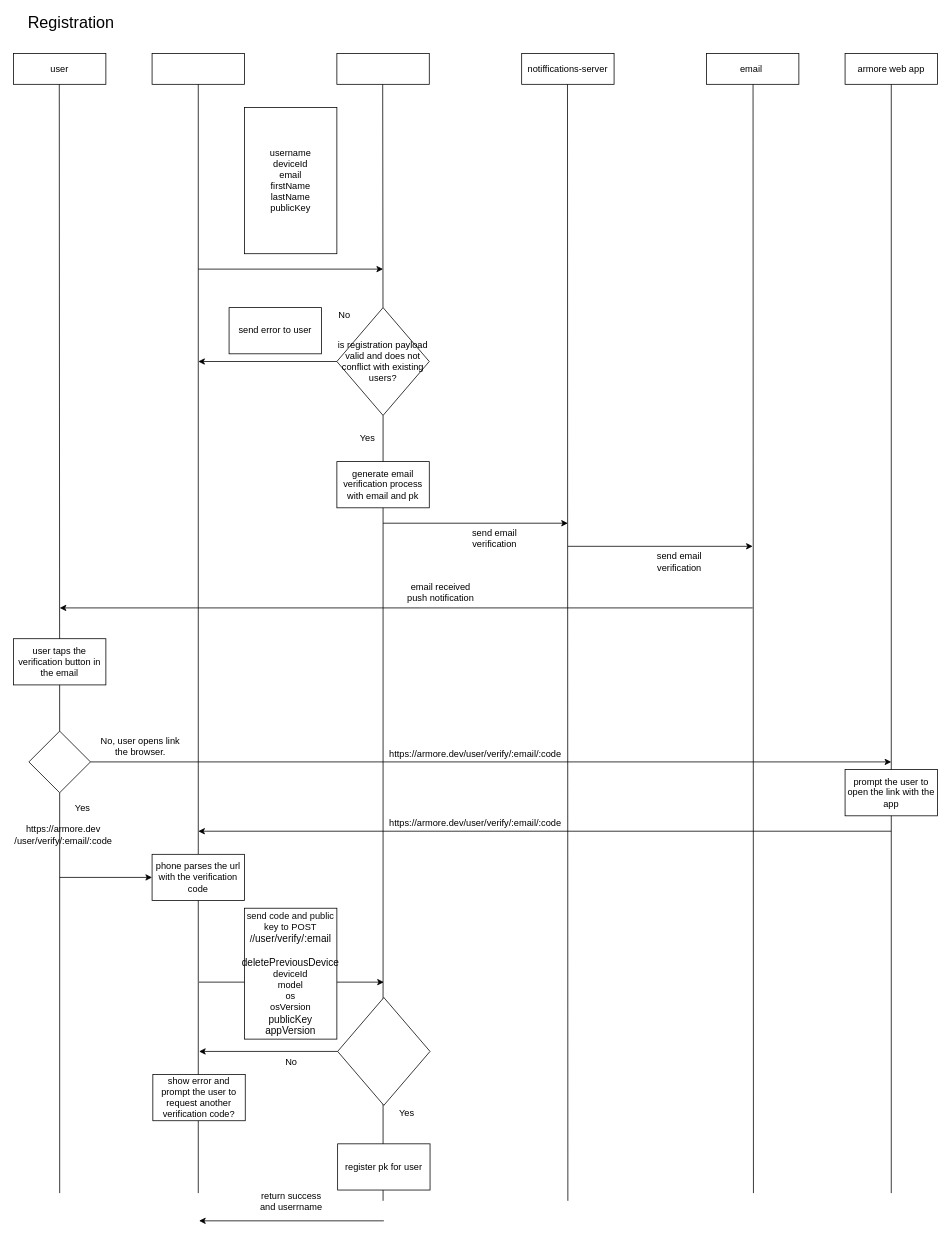
Image size: 951x1240. Some labels were removed from this diagram. Here are the shapes that lost their labels. From the top down, the centre of each, then its label:
At (197,68): "phone".
At (382,68): "auth-service".
At (59,761): "user opens link with the app?".
At (383,1051): "if verification code is valid and public key matches?".
